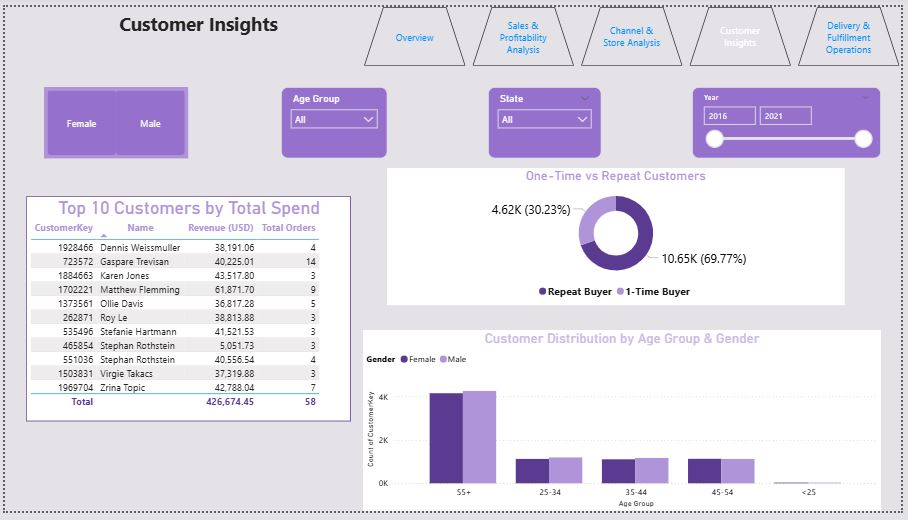

The page's visual inventory and layout, read from the dashboard file:
{"tool":"powerbi","page":{"name":"Customer Insights ","canvas":[1280,720],"ordinal":3},"visuals":[{"type":"advancedSlicerVisual","fields":{"Values":["Customers.Gender"]},"box":[56,114,206,102],"z":0},{"type":"slicer","fields":{"Values":["Customers.Age Group"]},"box":[394,114,152,102],"z":1000},{"type":"slicer","fields":{"Values":["Customers.State"]},"box":[690,114,162,102],"z":2000},{"type":"clusteredColumnChart","title":"Customer Distribution by Age Group & Gender","fields":{"Category":["Customers.Age Group"],"Y":["Count(Customers.CustomerKey)"],"Series":["Customers.Gender"]},"box":[512,462,740,258],"z":3000},{"type":"tableEx","title":"Top 10 Customers by Total Spend","fields":{"Values":["Customers.CustomerKey","Customers.Name","Customers.Revenue (USD)","Customers.Total Orders"]},"box":[30,270,464,322],"z":4000},{"type":"donutChart","title":"One-Time vs Repeat Customers","fields":{"Category":["Customers.Customer Type"],"Y":["CountNonNull(Customers.CustomerKey)"]},"box":[546,230,654,196],"z":5000},{"type":"slicer","fields":{"Values":["Date.Year"]},"box":[982,114,270,102],"z":6000},{"type":"textbox","box":[0,0,560,48],"z":7000},{"type":"pageNavigator","box":[512.3,0,767.7,84.2],"z":11000}]}

Visuals, with their boxes in screenshot pixels (x1, y1, x2, y2), scaled from the page's 1280x720 canvas onto the 908x520 screenshot:
advancedSlicerVisual - Customers.Gender: 40 82 186 156
slicer - Customers.Age Group: 279 82 387 156
slicer - Customers.State: 489 82 604 156
"Customer Distribution by Age Group & Gender" clusteredColumnChart: 363 334 888 519
"Top 10 Customers by Total Spend" tableEx: 21 195 350 428
"One-Time vs Repeat Customers" donutChart: 387 166 851 308
slicer - Date.Year: 697 82 888 156
textbox: 0 0 397 35
pageNavigator: 363 0 907 61
